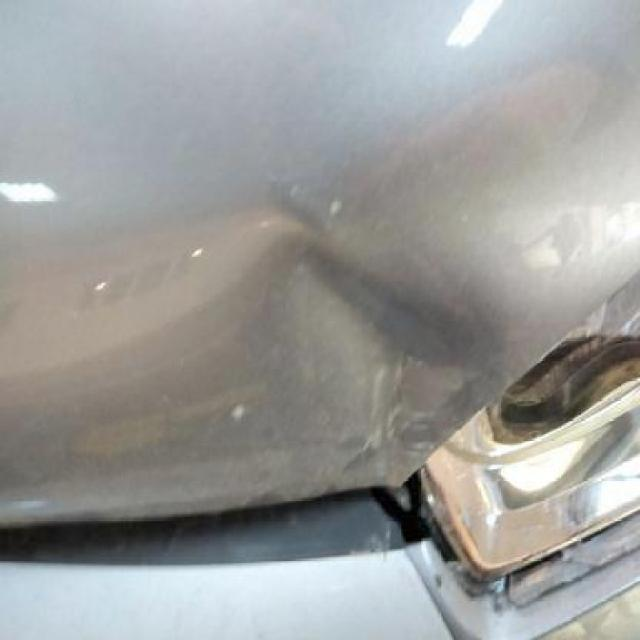car damage: (265, 221, 511, 477)
